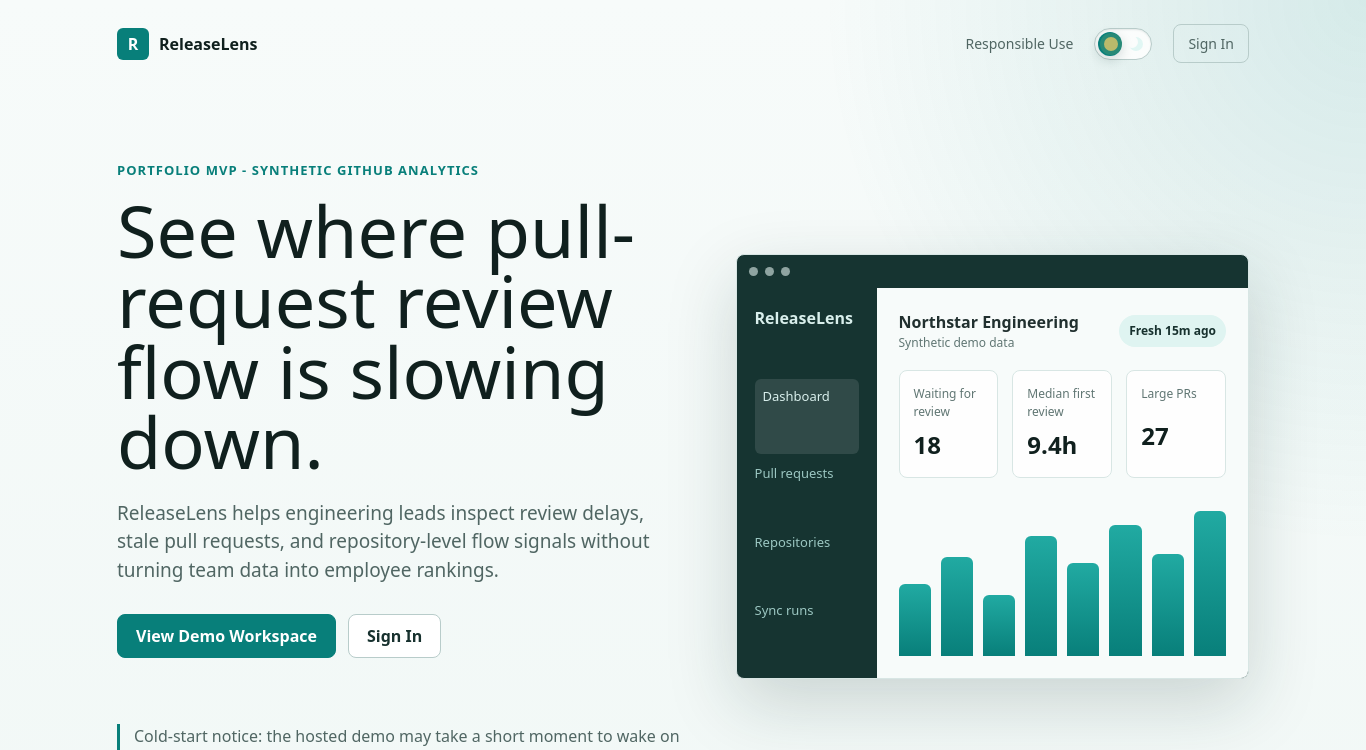
Test: LandingPage demo entry › opens the populated demo route in one action without authentication
The image size is (1366, 750).
Click the button "View Demo Workspace" at coordinates (226, 636), box [117,614,336,658]
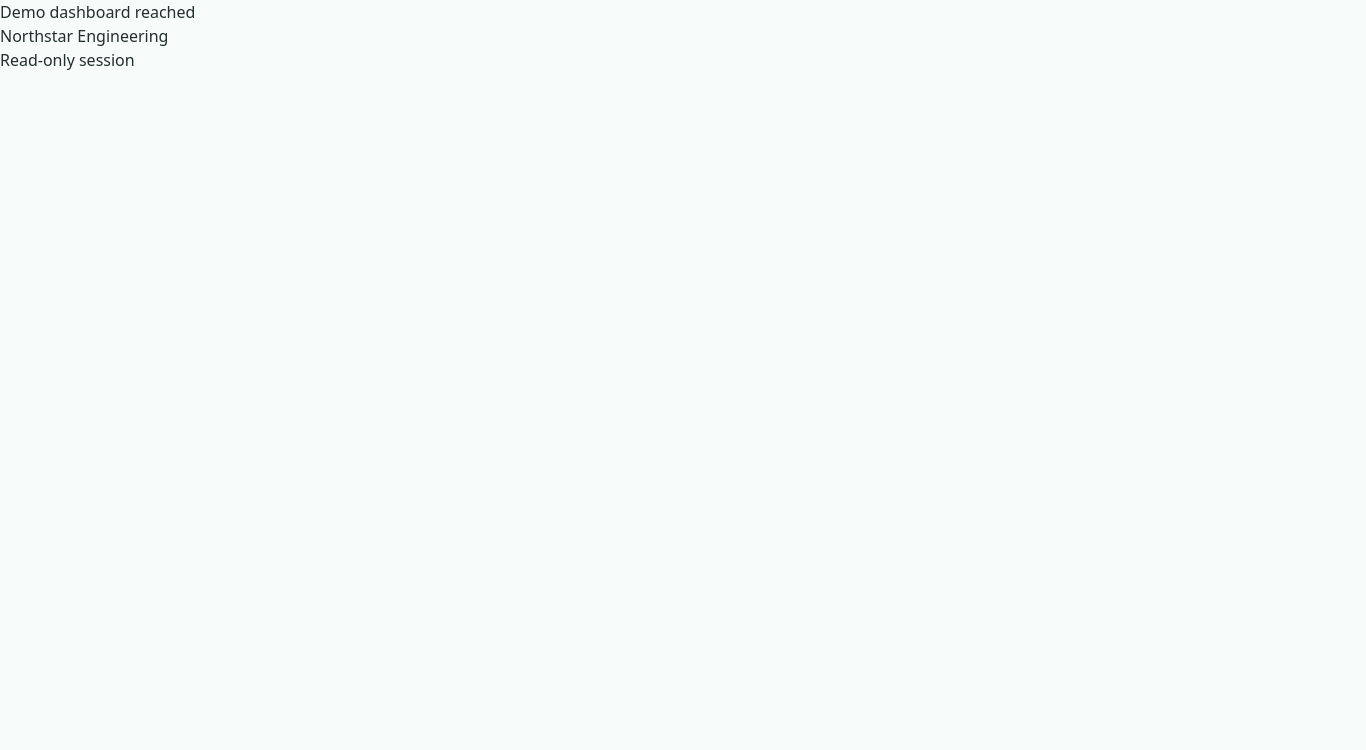
Expected: the text "Northstar Engineering" is shown, [0,25,168,47]
Now the heading "Demo dashboard reached" is shown, box [0,1,195,23]
Now the text "Read-only session" is shown, box [0,49,135,71]
